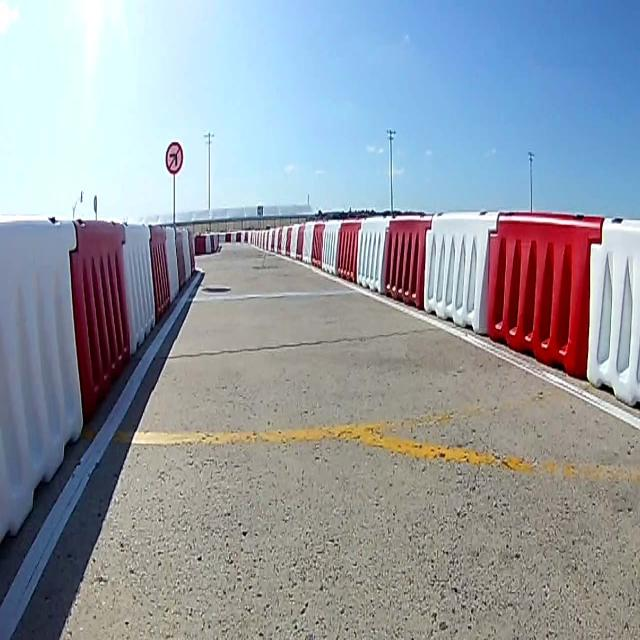soladonulmez: (164, 140, 183, 174)
